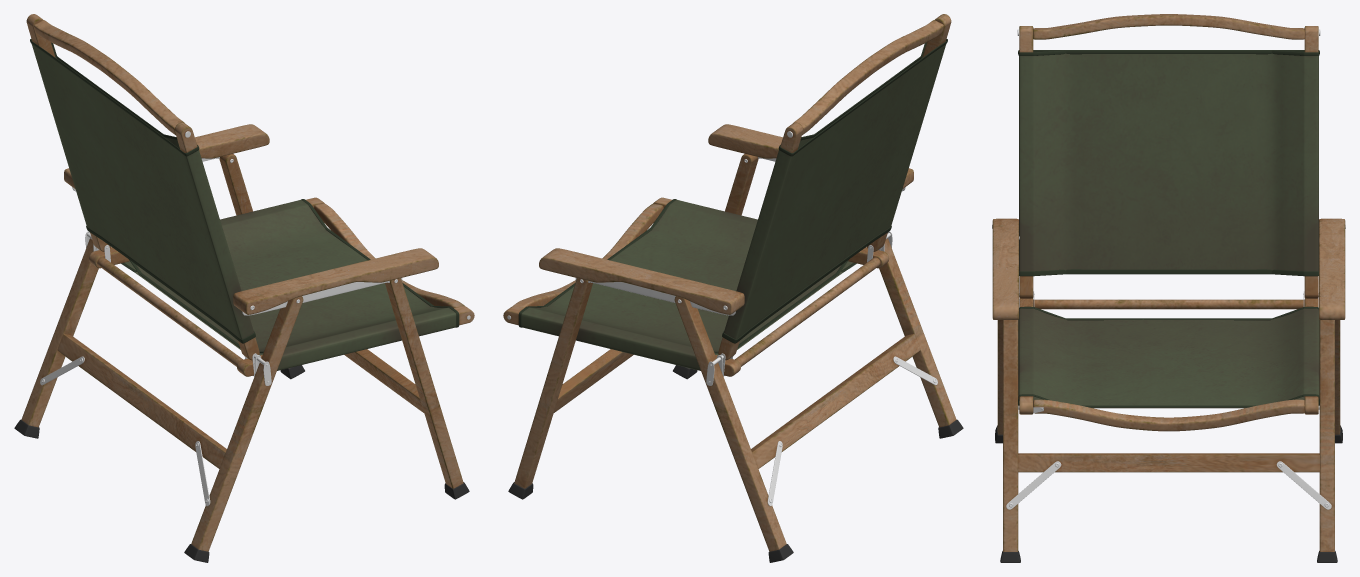
The model's file is camping_chair_free.glb.
3 views of the same model, side by side, from view 1: azimuth 30°, elevation 25°; view 2: azimuth 150°, elevation 25°; view 3: azimuth 270°, elevation 25° (orthographic). The views are drawn at different scales.
Parts seen in each view (by area): view 1: Object_2, Object_3, Object_4; view 2: Object_2, Object_3, Object_4; view 3: Object_2, Object_4, Object_3.
Part boxes in pixels (x1=…): Object_2: x1=14, y1=39, x2=474, y2=562; Object_3: x1=21, y1=14, x2=438, y2=551; Object_4: x1=124, y1=200, x2=456, y2=370; Object_2: x1=503, y1=14, x2=963, y2=562; Object_3: x1=514, y1=20, x2=956, y2=551; Object_4: x1=521, y1=200, x2=853, y2=370; Object_2: x1=995, y1=26, x2=1342, y2=562; Object_4: x1=1018, y1=308, x2=1319, y2=408; Object_3: x1=992, y1=14, x2=1345, y2=551.
Bounding box in the file's own units: 9.83 × 13.93 × 10.54.
Materials: 1 (1 with a texture image).
